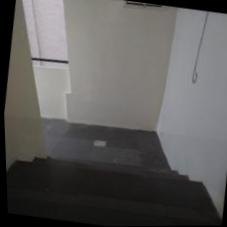Animal: (19, 128, 206, 203)
